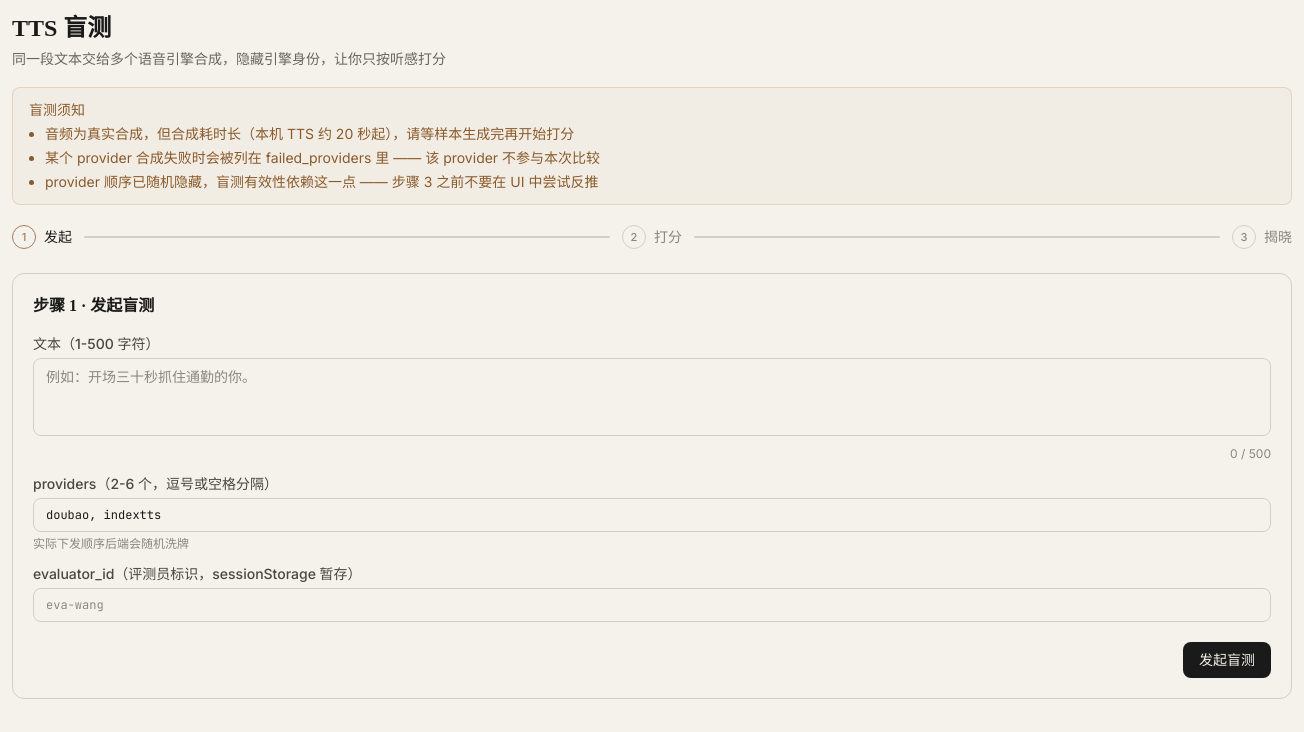
Test: TtsBlindTest › 步骤 2 "返回" 按钮 → 回到步骤 1
Step 1. Type "test" into the text box with placeholder "例如：开场三十秒抓住通勤的你。" → (652, 397), box x1=33 y1=358 x2=1271 y2=436
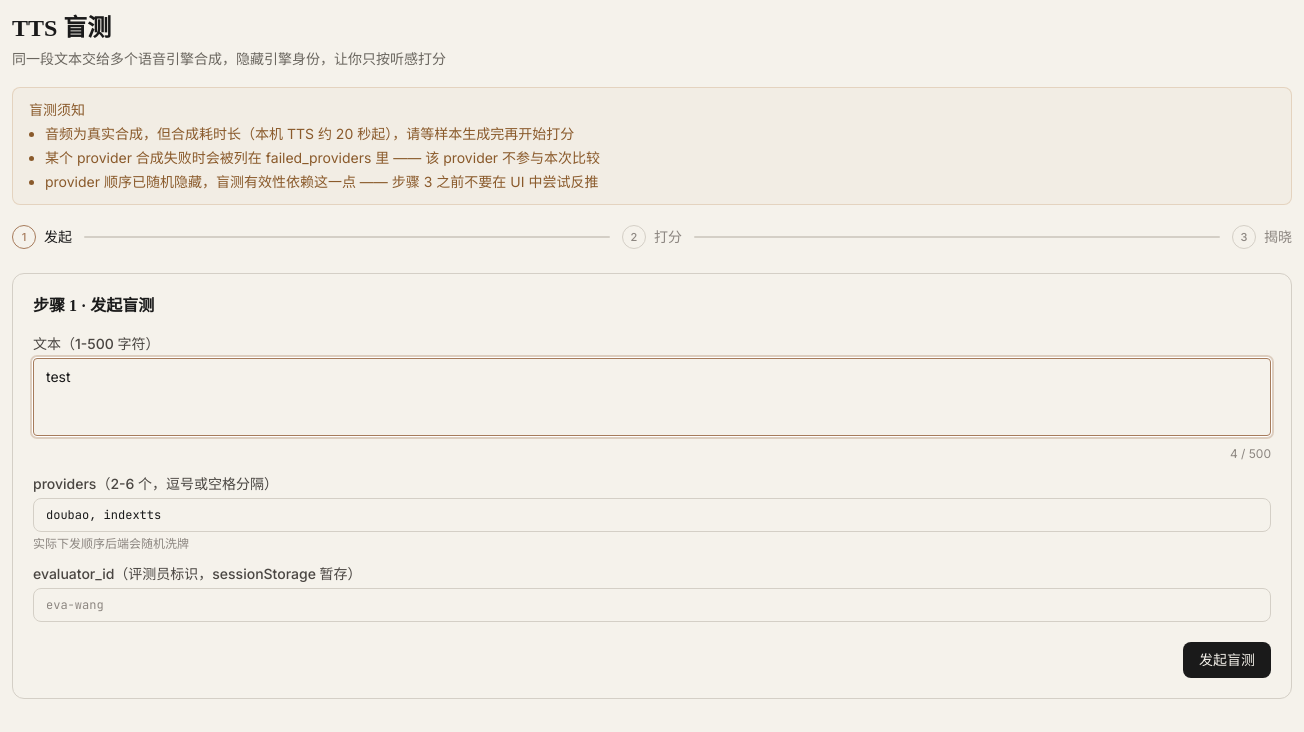
Step 2. Type "eva-1" into the field with placeholder "eva-wang" → (652, 605), box x1=33 y1=588 x2=1271 y2=622
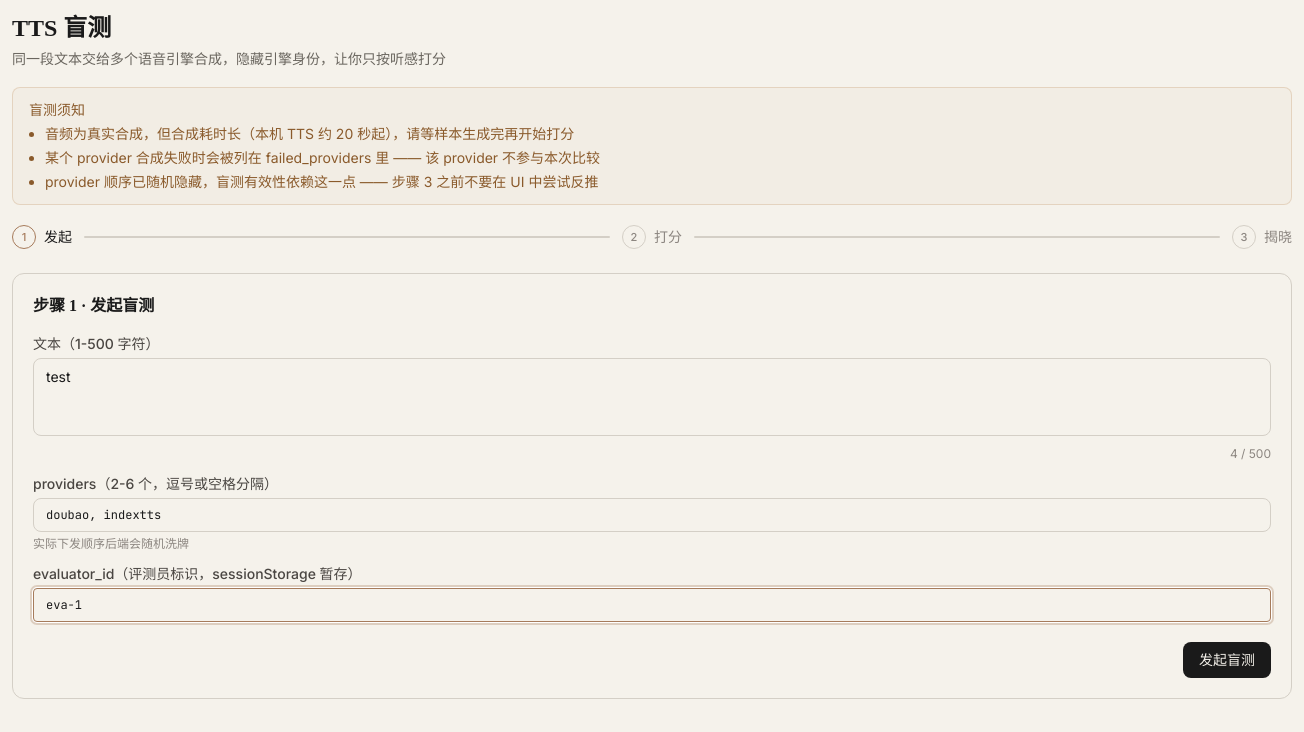
Step 3. Click the button "发起盲测" → (1227, 660), box x1=1183 y1=642 x2=1271 y2=678
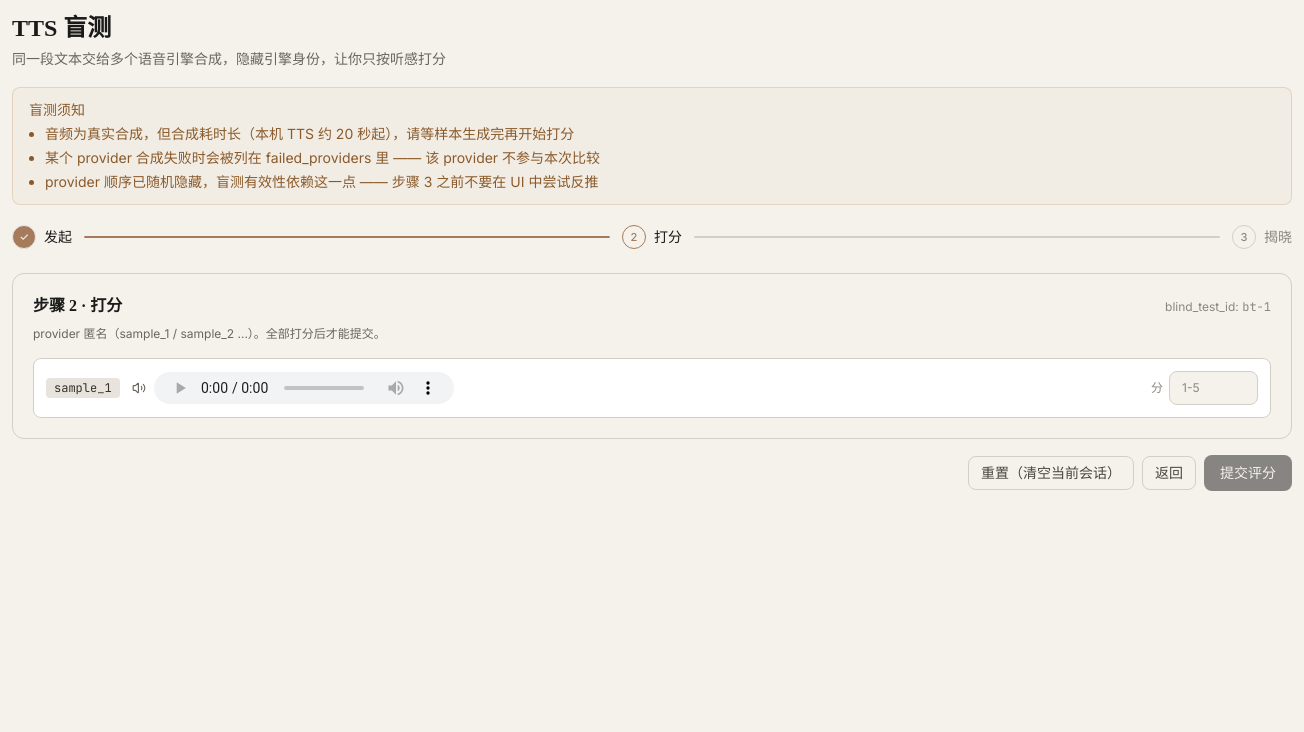
Expected: the heading "步骤 2 · 打分" is shown, x1=33 y1=294 x2=122 y2=318
Step 4. Click the button "返回" → (1169, 473), box x1=1142 y1=456 x2=1196 y2=490
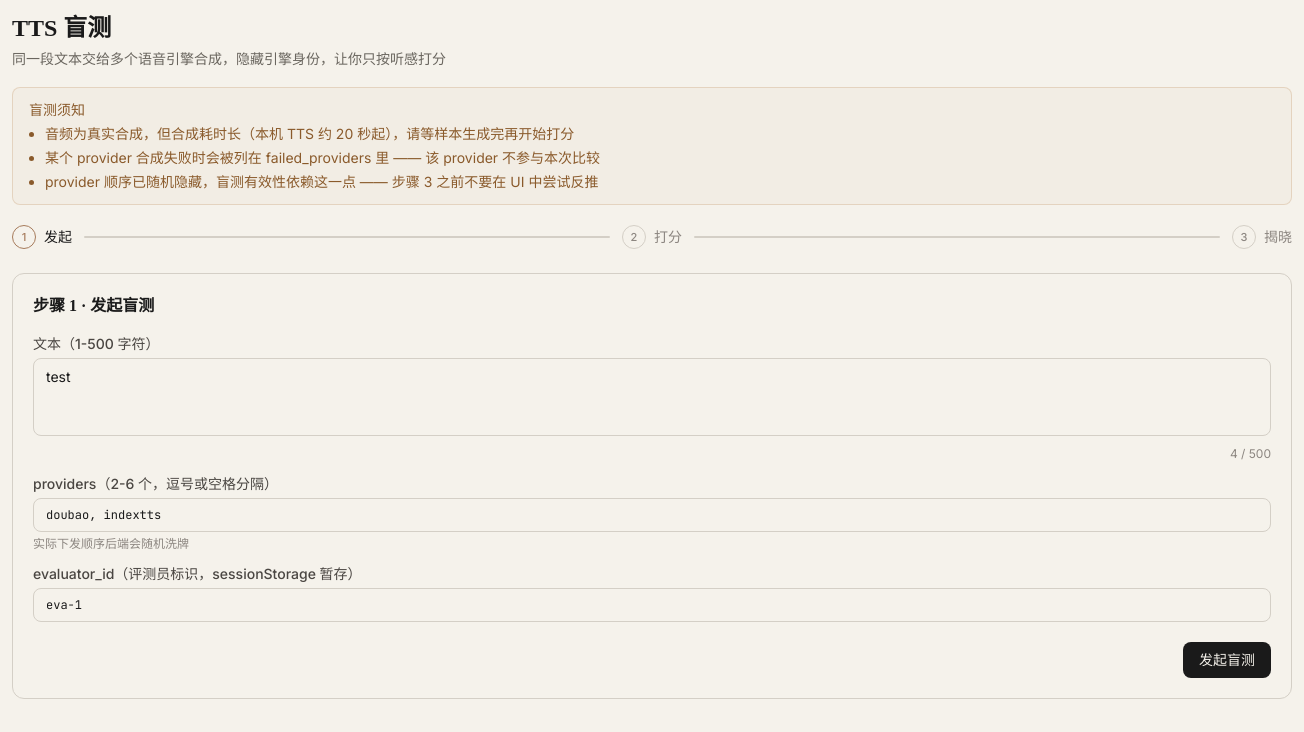
Expected: the heading "步骤 1 · 发起盲测" is shown, x1=33 y1=297 x2=154 y2=314
